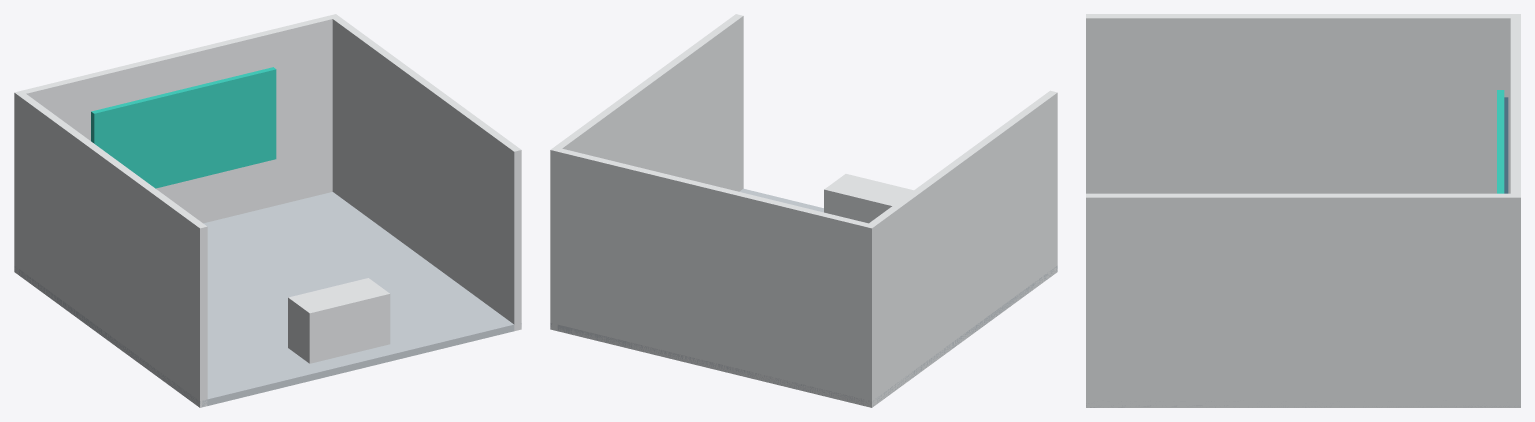
3 views of the same model, side by side, from view 1: azimuth 30°, elevation 25°; view 2: azimuth 150°, elevation 25°; view 3: azimuth 270°, elevation 25° (orthographic). The views are drawn at different scales.
Parts seen in each view (by area): view 1: Exhibition Booth Concept; view 2: Exhibition Booth Concept; view 3: Exhibition Booth Concept.
Boxes of the visible parts, <box> form: Exhibition Booth Concept: <box>14,14,521,407</box>; Exhibition Booth Concept: <box>550,14,1057,407</box>; Exhibition Booth Concept: <box>1086,14,1520,407</box>.
Size of the model in its own units: 6 by 3.2 by 6.
